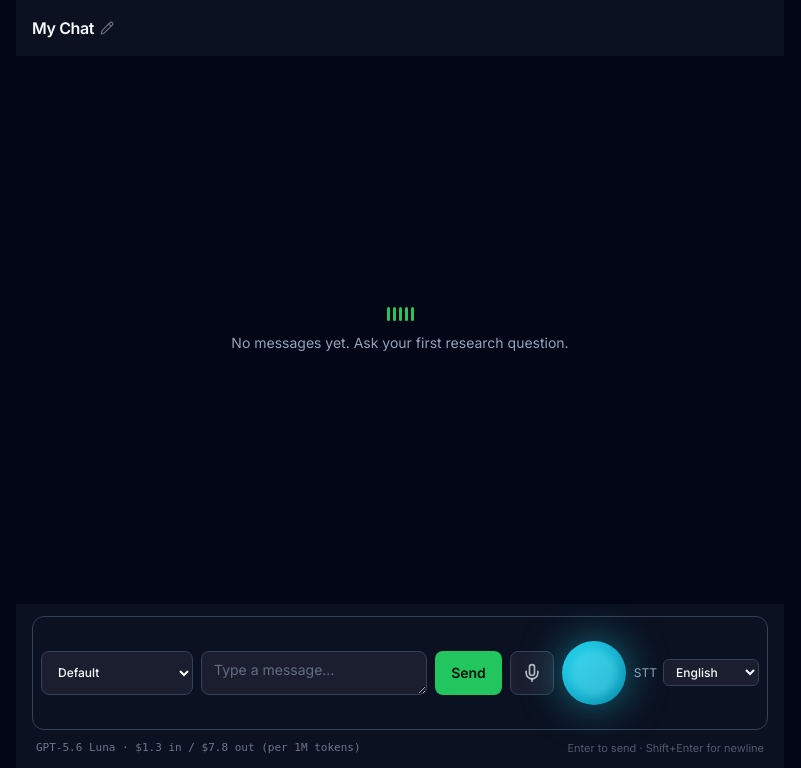
Scenario: ConversationView title editing › cancels on Escape without saving
The width and height of the screenshot is (801, 768).
Click the heading "My Chat" at (73, 28), box [32,16,114,40]
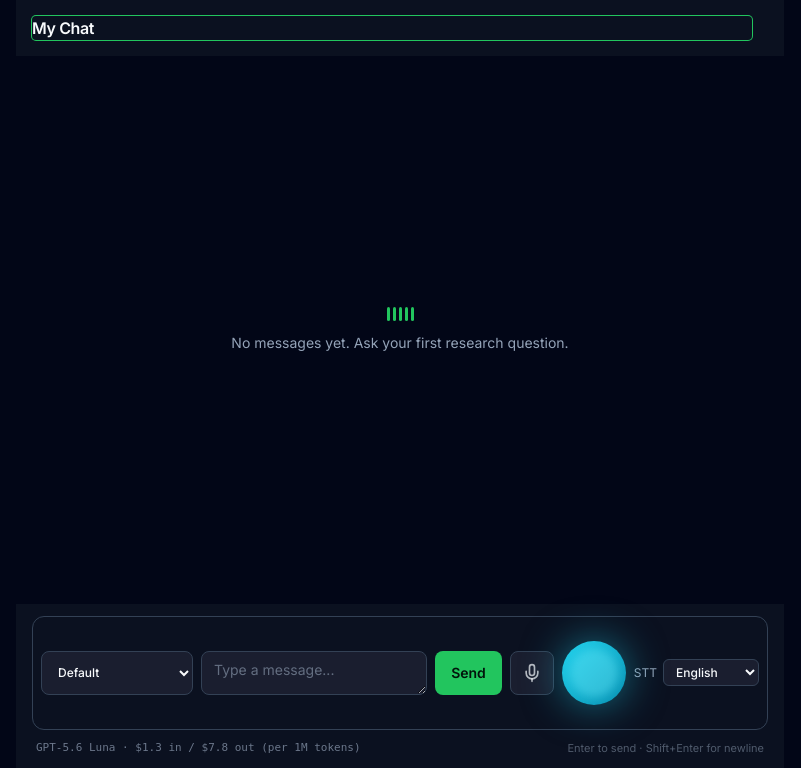
Type "Draft" into the field named "conversation title" at (392, 28), box [32,16,752,40]
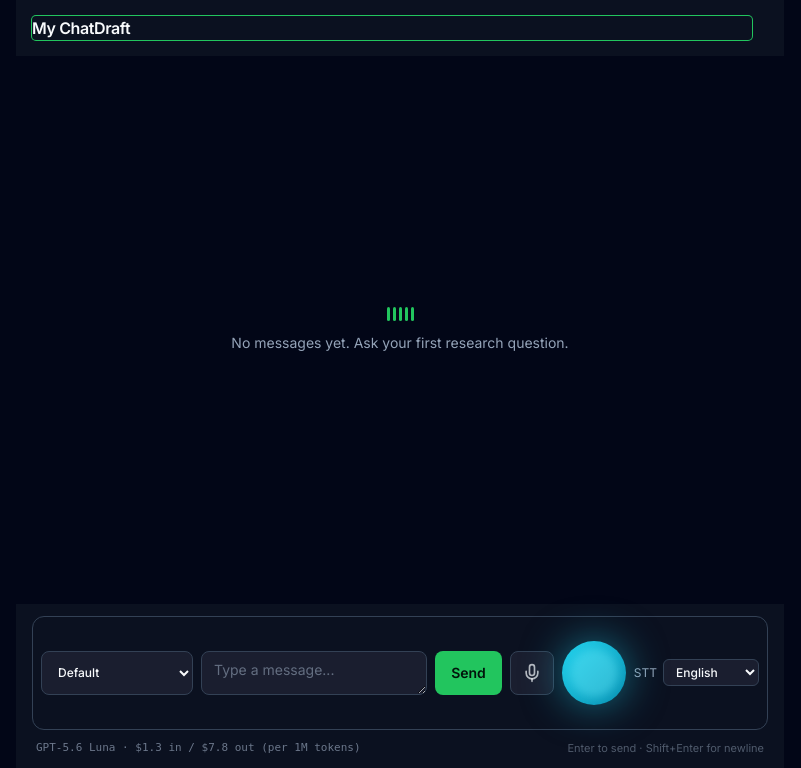
Press Escape
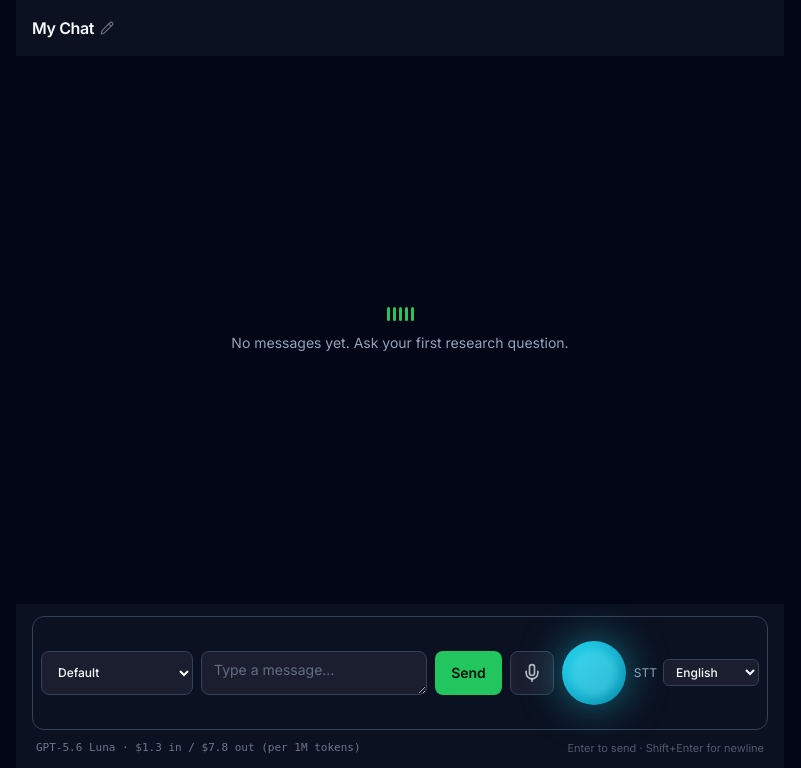
Expected: the heading "My Chat" is shown, [32,16,114,40]
